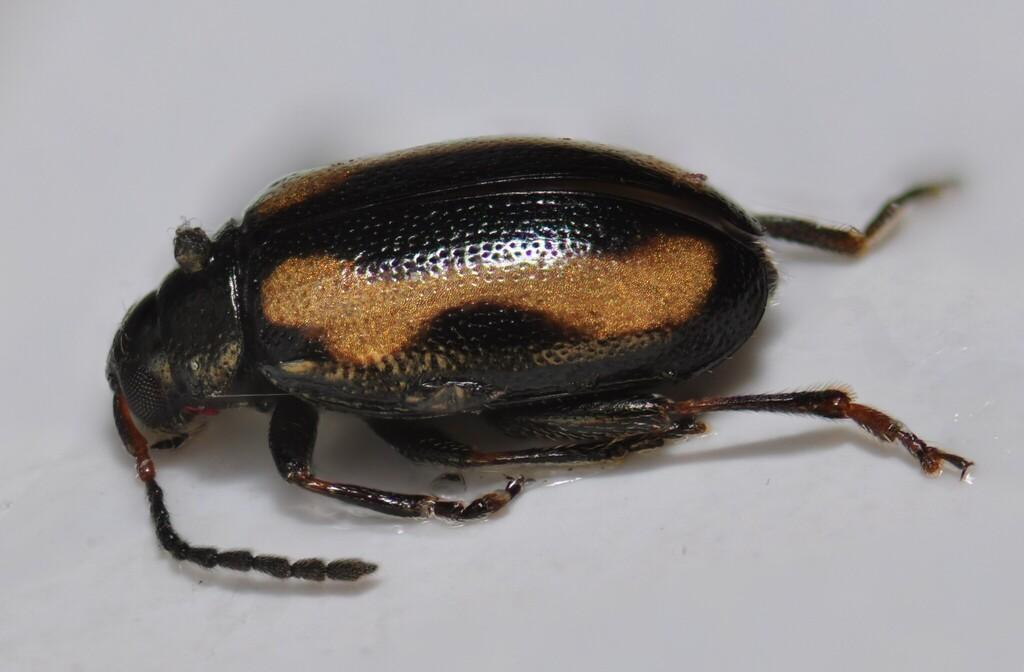flea_beetle: (38, 65, 1024, 667)
